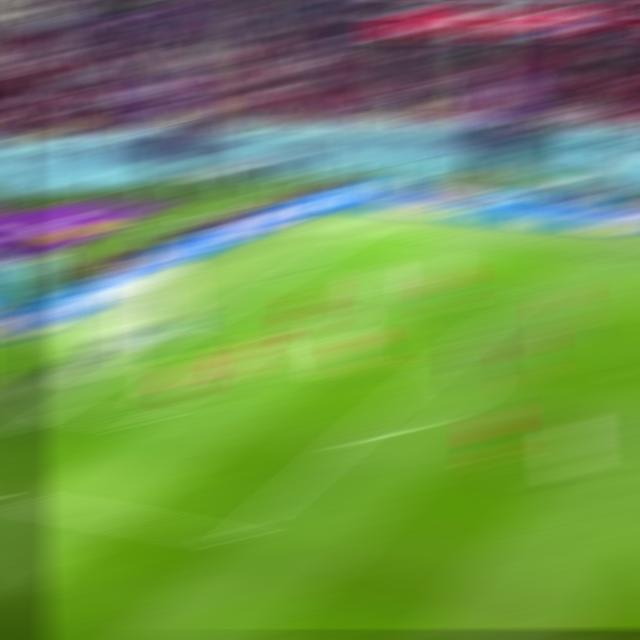bigarea_bottom_inner: (212, 525, 258, 552)
bigarea_top_inner: (494, 294, 534, 310)
bigarea_top_outter: (270, 267, 308, 280)
bottom_arc_area_intersection: (326, 430, 370, 450)
corner: (347, 228, 386, 237)
smallarea_bottom_inner: (121, 411, 164, 433)
smallarea_bottom_outter: (37, 402, 78, 418)
smallarea_top_inner: (270, 319, 309, 333)
smallarea_top_outter: (196, 309, 235, 324)
top_arc_area_intersection: (426, 350, 466, 364)
